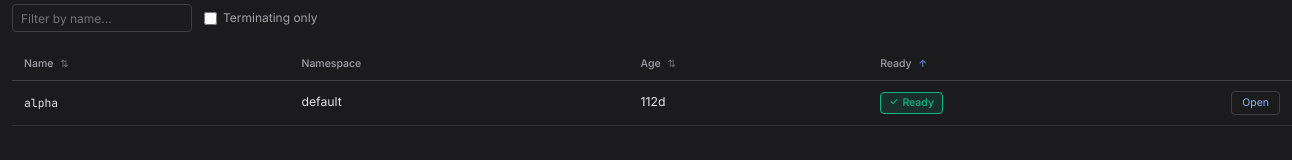
Test case: InstanceTable › shows empty state when name filter matches nothing
In the search field with test id "instance-name-filter": [102, 18] box [12,4,192,32], type "zzz"
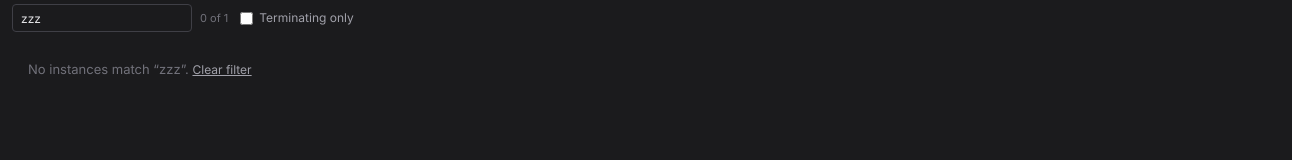
Result: the text "No instances match “zzz”. Clear filter" is shown at [28,61,252,77]
